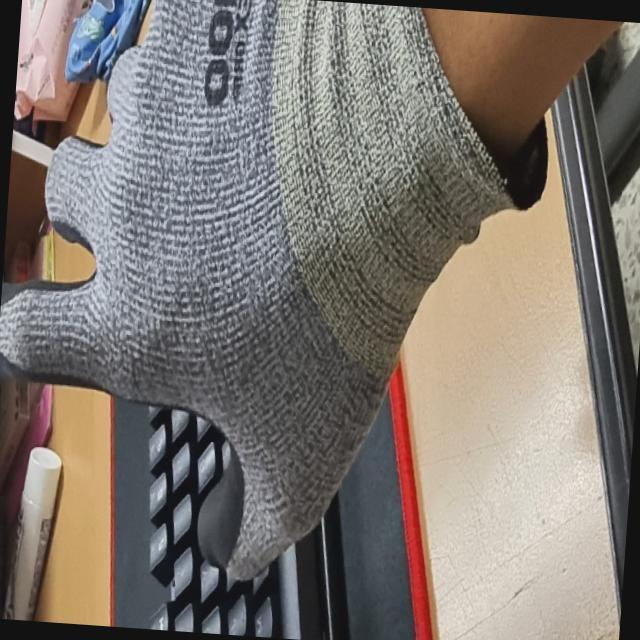Gloves: (26, 0, 543, 570)
